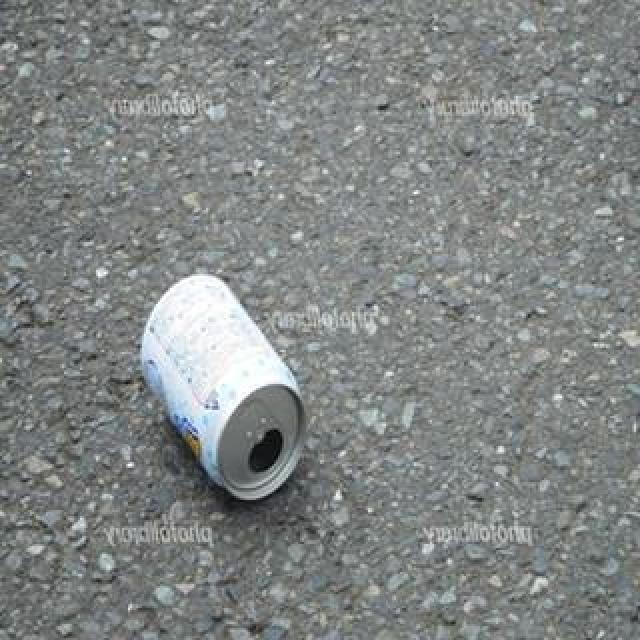Can: (127, 268, 323, 502)
